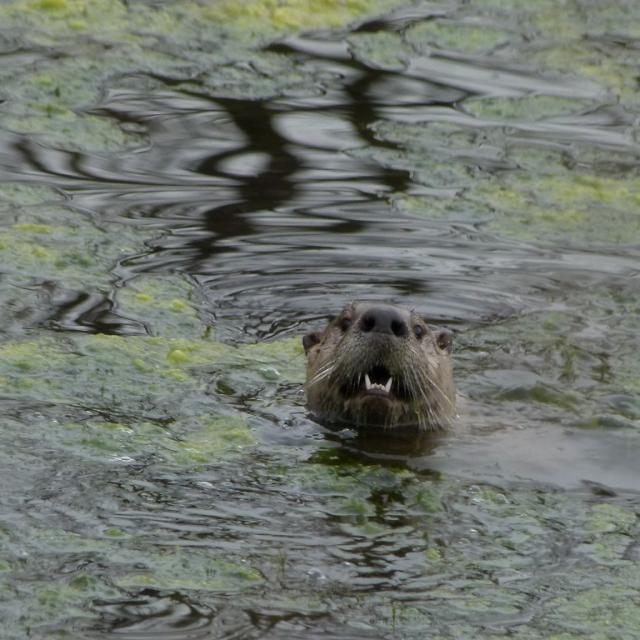otter: (303, 302, 456, 432)
